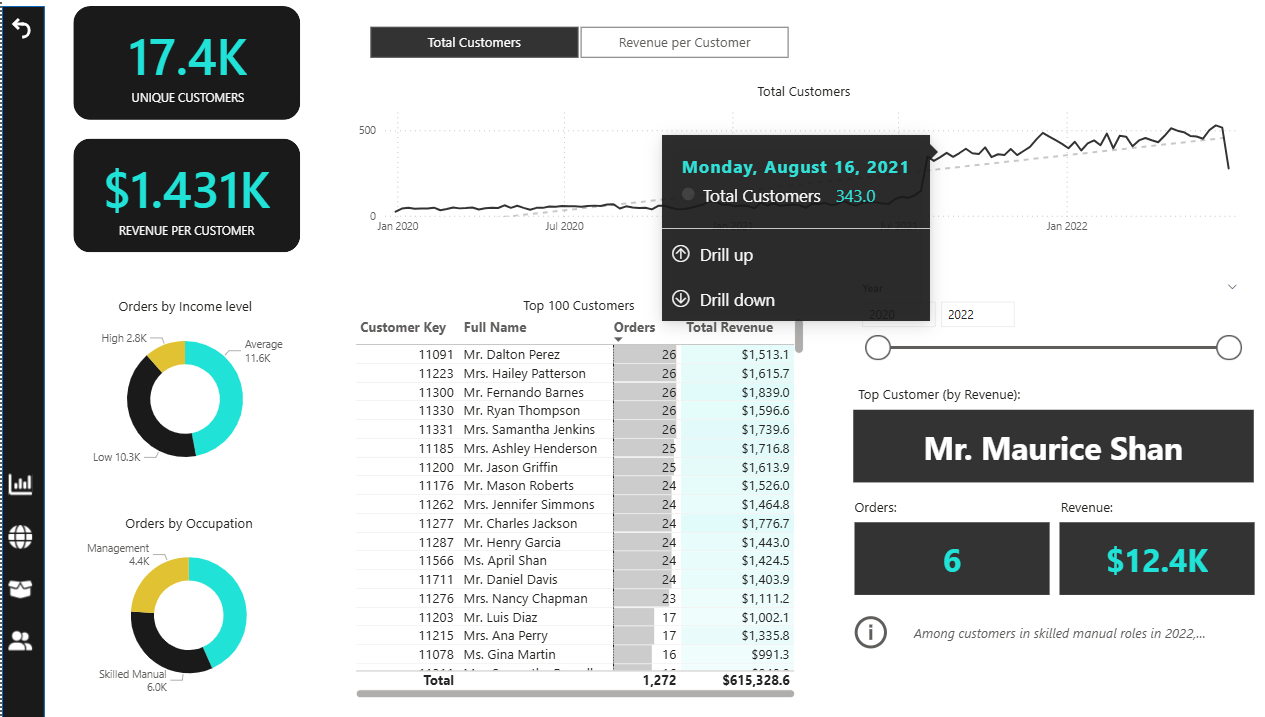

The dashboard page shown, as its layout file describes it:
{"tool":"powerbi","page":{"name":"Customer Detail","canvas":[1280,720],"ordinal":3},"visuals":[{"type":"shape","box":[0,0,43.3,752.2],"z":0},{"type":"shape","box":[72.2,0,230,115.6],"z":1000},{"type":"cardVisual","fields":{"Data":["Measure Table.Total Customers"]},"box":[66.1,0,245.2,115.7],"z":2000},{"type":"shape","box":[72.2,134.4,230,115.6],"z":3000},{"type":"cardVisual","fields":{"Data":["Measure Table.Average Revenue per Customer"]},"box":[68,135,237.9,115.7],"z":4000},{"type":"lineChart","fields":{"Category":["Calendar Lookup.Date Hierarchy.Start of Year","Calendar Lookup.Date Hierarchy.Start of Month","Calendar Lookup.Date Hierarchy.Start of Week","Calendar Lookup.Date Hierarchy.Date"],"Y":["Measure Table.Total Customers"]},"box":[355.3,76.6,912.7,163.3],"z":5000},{"type":"donutChart","title":"Orders by Income level","fields":{"Category":["Customer Lookup.Income level"],"Y":["Measure Table.Total Orders"]},"box":[67.8,295.6,234.4,188.9],"z":6000},{"type":"donutChart","title":"Orders by Occupation","fields":{"Category":["Customer Lookup.Occupation"],"Y":["Measure Table.Total Orders"]},"box":[72.2,513.3,234.4,188.9],"z":7000},{"type":"tableEx","title":"Top 100 Customers","fields":{"Values":["Customer Lookup.CustomerKey","Customer Lookup.Full Name","Measure Table.Total Orders","Measure Table.Total Revenue"]},"box":[351.7,293.2,464.7,412.3],"z":8000},{"type":"cardVisual","fields":{"Data":["Measure Table.Full Name (Customer Detail)"]},"box":[862.3,409.4,405.6,73.3],"z":9000},{"type":"cardVisual","fields":{"Data":["Measure Table.Total Orders (Customer Detail)"]},"box":[863.3,522.5,197.8,73.3],"z":10000},{"type":"cardVisual","fields":{"Data":["Measure Table.Total Revenue (Customer Detail)"]},"box":[1071,522.5,197.8,73.3],"z":11000},{"type":"textbox","box":[862.3,378.3,184.4,28.9],"z":12000},{"type":"textbox","box":[1067.1,493.2,184.6,29.4],"z":13000},{"type":"textbox","box":[858.7,493.2,184.6,29.4],"z":14000},{"type":"slicer","fields":{"Values":["Calendar Lookup.Year"]},"box":[858.7,274.6,405,85.4],"z":15000},{"type":"actionButton","box":[858.7,612.6,392.1,43.2],"z":16000},{"type":"actionButton","box":[4.6,7.3,34,29.4],"z":17000},{"type":"actionButton","box":[2.8,461.9,32.1,45],"z":18000},{"type":"actionButton","box":[2.8,567.9,32.1,45],"z":19000},{"type":"actionButton","box":[2.8,620.8,32.1,45],"z":20000},{"type":"actionButton","box":[2.8,514.9,32.1,45],"z":21000},{"type":"slicer","fields":{"Values":["Customer Metric Selection.Customer Metric Selection"]},"box":[347.1,13.8,473.9,45],"z":21001}]}

Visuals, with their boxes on the page's 1280x720 design canvas (x1, y1, x2, y2). These are canvas units, not pixel positions in the 1265x717 screenshot, which may show the page scaled, cropped or inside an application window:
shape: [x1=0, y1=0, x2=43, y2=752]
shape: [x1=72, y1=0, x2=302, y2=116]
cardVisual - Measure Table.Total Customers: [x1=66, y1=0, x2=311, y2=116]
shape: [x1=72, y1=134, x2=302, y2=250]
cardVisual - Measure Table.Average Revenue per Customer: [x1=68, y1=135, x2=306, y2=251]
lineChart - Calendar Lookup.Date Hierarchy.Start of Year x Calendar Lookup.Date Hierarchy.Start of Month: [x1=355, y1=77, x2=1268, y2=240]
"Orders by Income level" donutChart: [x1=68, y1=296, x2=302, y2=484]
"Orders by Occupation" donutChart: [x1=72, y1=513, x2=307, y2=702]
"Top 100 Customers" tableEx: [x1=352, y1=293, x2=816, y2=706]
cardVisual - Measure Table.Full Name (Customer Detail): [x1=862, y1=409, x2=1268, y2=483]
cardVisual - Measure Table.Total Orders (Customer Detail): [x1=863, y1=522, x2=1061, y2=596]
cardVisual - Measure Table.Total Revenue (Customer Detail): [x1=1071, y1=522, x2=1269, y2=596]
textbox: [x1=862, y1=378, x2=1047, y2=407]
textbox: [x1=1067, y1=493, x2=1252, y2=523]
textbox: [x1=859, y1=493, x2=1043, y2=523]
slicer - Calendar Lookup.Year: [x1=859, y1=275, x2=1264, y2=360]
actionButton: [x1=859, y1=613, x2=1251, y2=656]
actionButton: [x1=5, y1=7, x2=39, y2=37]
actionButton: [x1=3, y1=462, x2=35, y2=507]
actionButton: [x1=3, y1=568, x2=35, y2=613]
actionButton: [x1=3, y1=621, x2=35, y2=666]
actionButton: [x1=3, y1=515, x2=35, y2=560]
slicer - Customer Metric Selection.Customer Metric Selection: [x1=347, y1=14, x2=821, y2=59]
